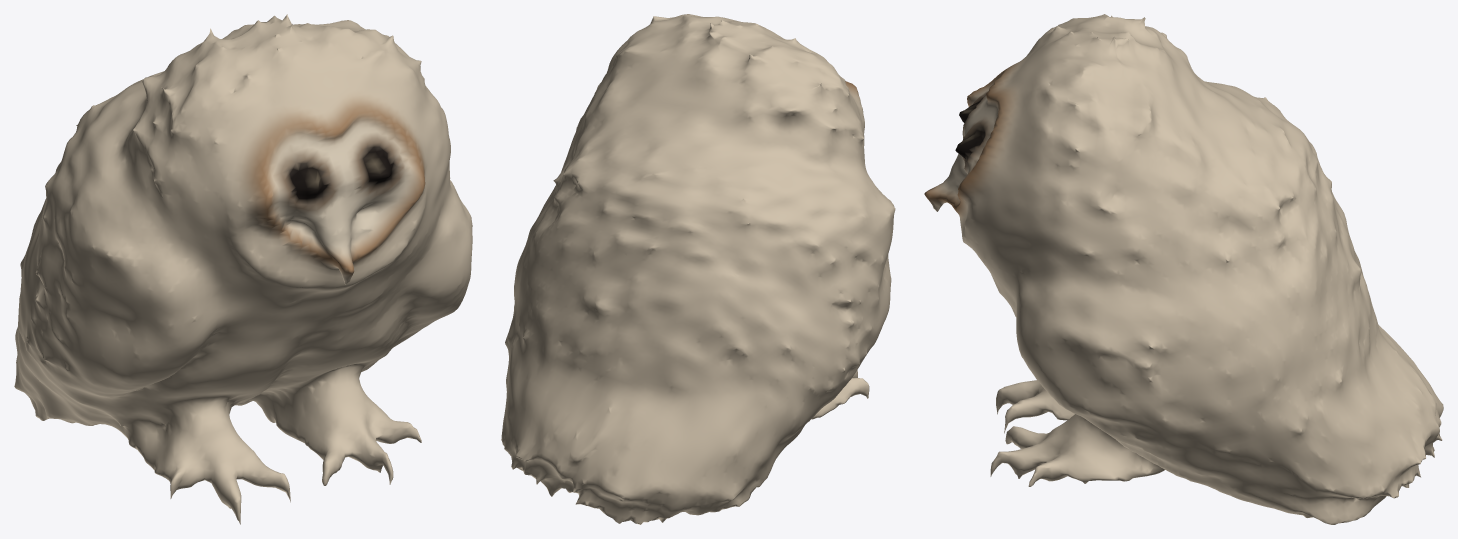
Rendered from orbital-ART_UNAPPROVED.glb.
The picture shows the model from 3 angles, left to right: view 1: azimuth 30°, elevation 25°; view 2: azimuth 150°, elevation 25°; view 3: azimuth 270°, elevation 25°; orthographic projection. The views are drawn at different scales.
Visible parts, largest first — view 1: run100_voxel_55k_REAL_NEURAL_SOURCE; view 2: run100_voxel_55k_REAL_NEURAL_SOURCE; view 3: run100_voxel_55k_REAL_NEURAL_SOURCE.
Part boxes in pixels (left/top/right/bottom): run100_voxel_55k_REAL_NEURAL_SOURCE: left=14, top=14, right=472, bottom=524; run100_voxel_55k_REAL_NEURAL_SOURCE: left=501, top=14, right=895, bottom=524; run100_voxel_55k_REAL_NEURAL_SOURCE: left=924, top=14, right=1443, bottom=524.
Size of the model in its own units: 1.6 by 1.83 by 1.94.
